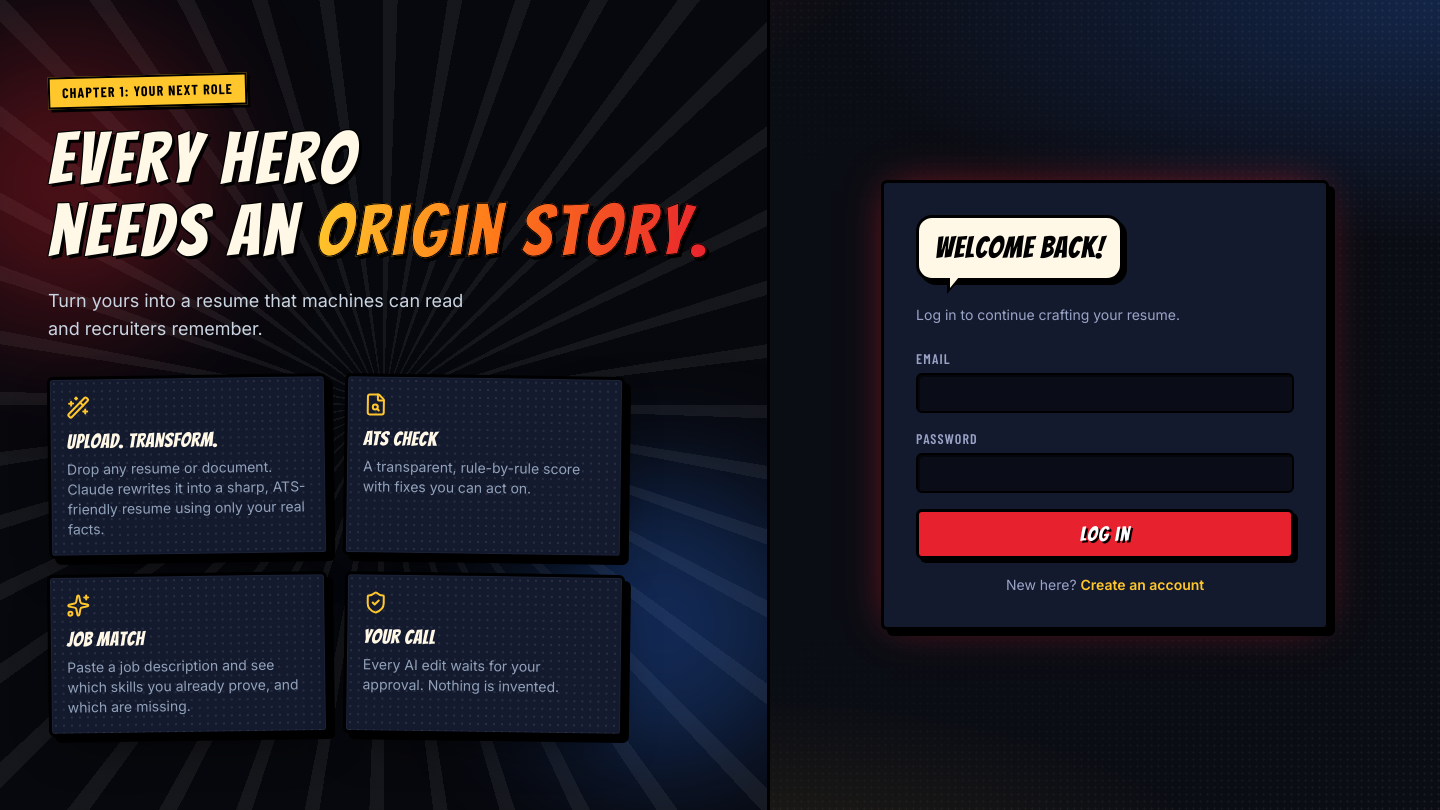
auth forms › shows the server error when login fails
In the field labelled "Email": (1105, 393) 916,373 -> 1294,413, type "a@example.com"
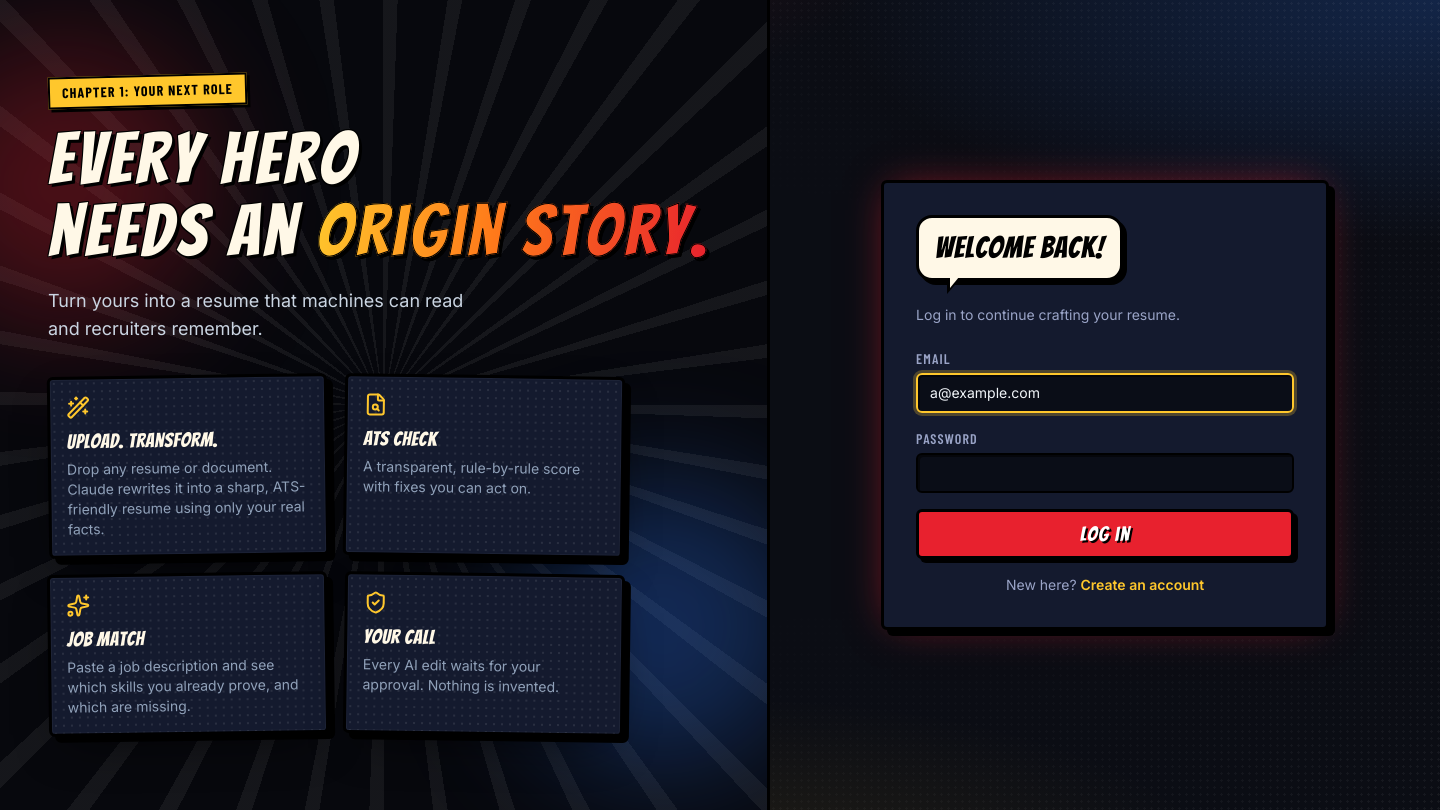
In the password field labelled "Password": (1105, 473) 916,453 -> 1294,493, type "wrong"
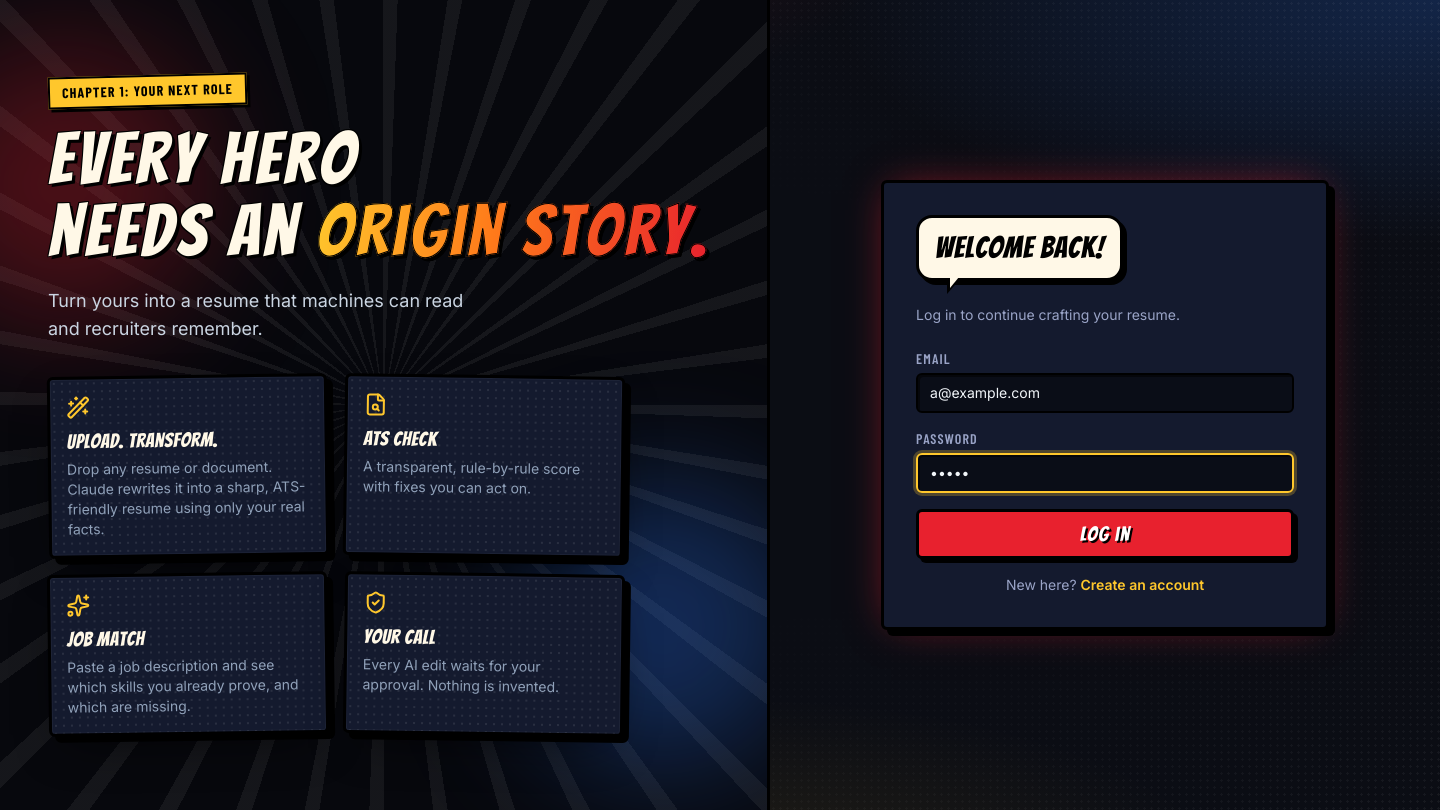
Click the button "Log in": (1105, 534) 916,509 -> 1294,559
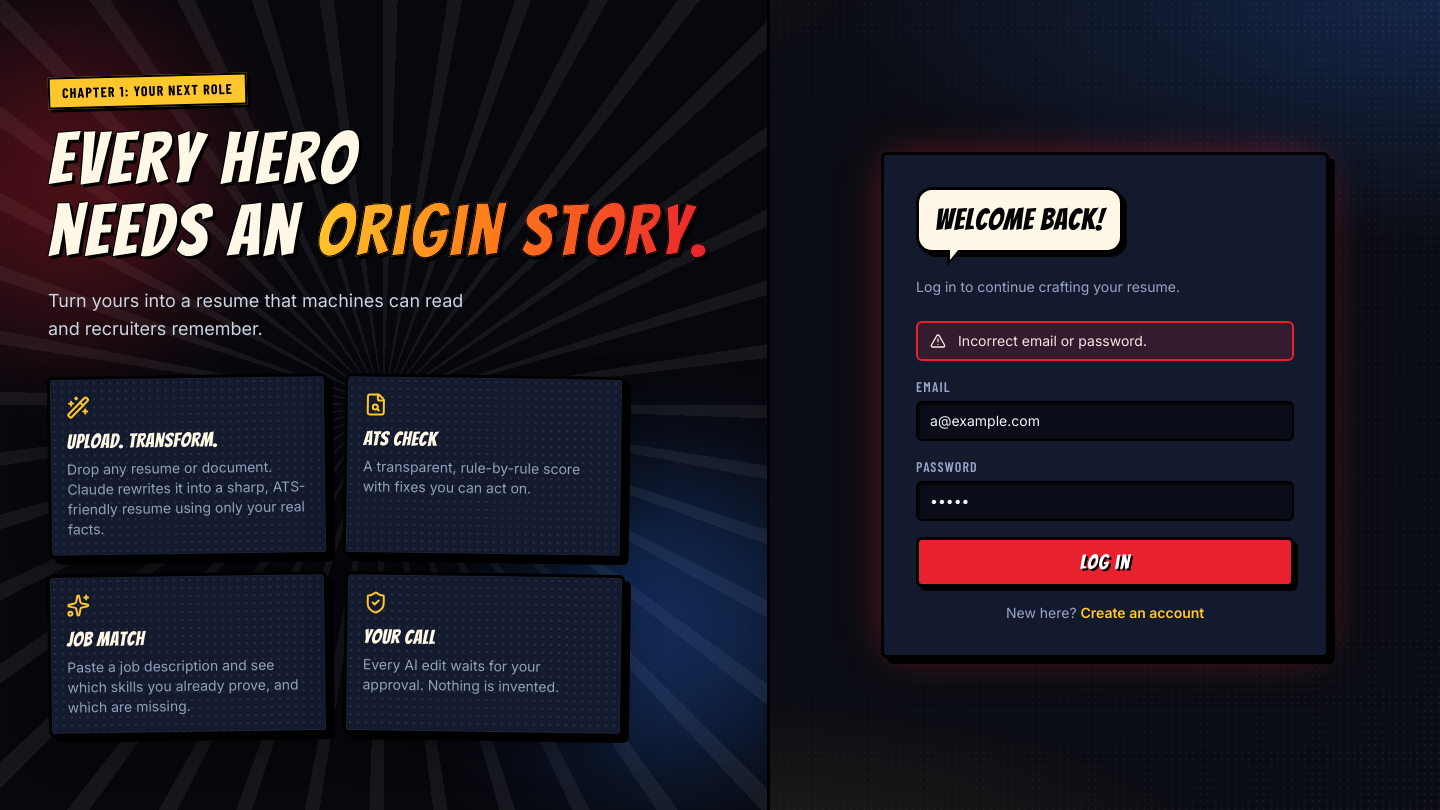
Now the text "Incorrect email or password." is shown, box 958,332 -> 1147,349
